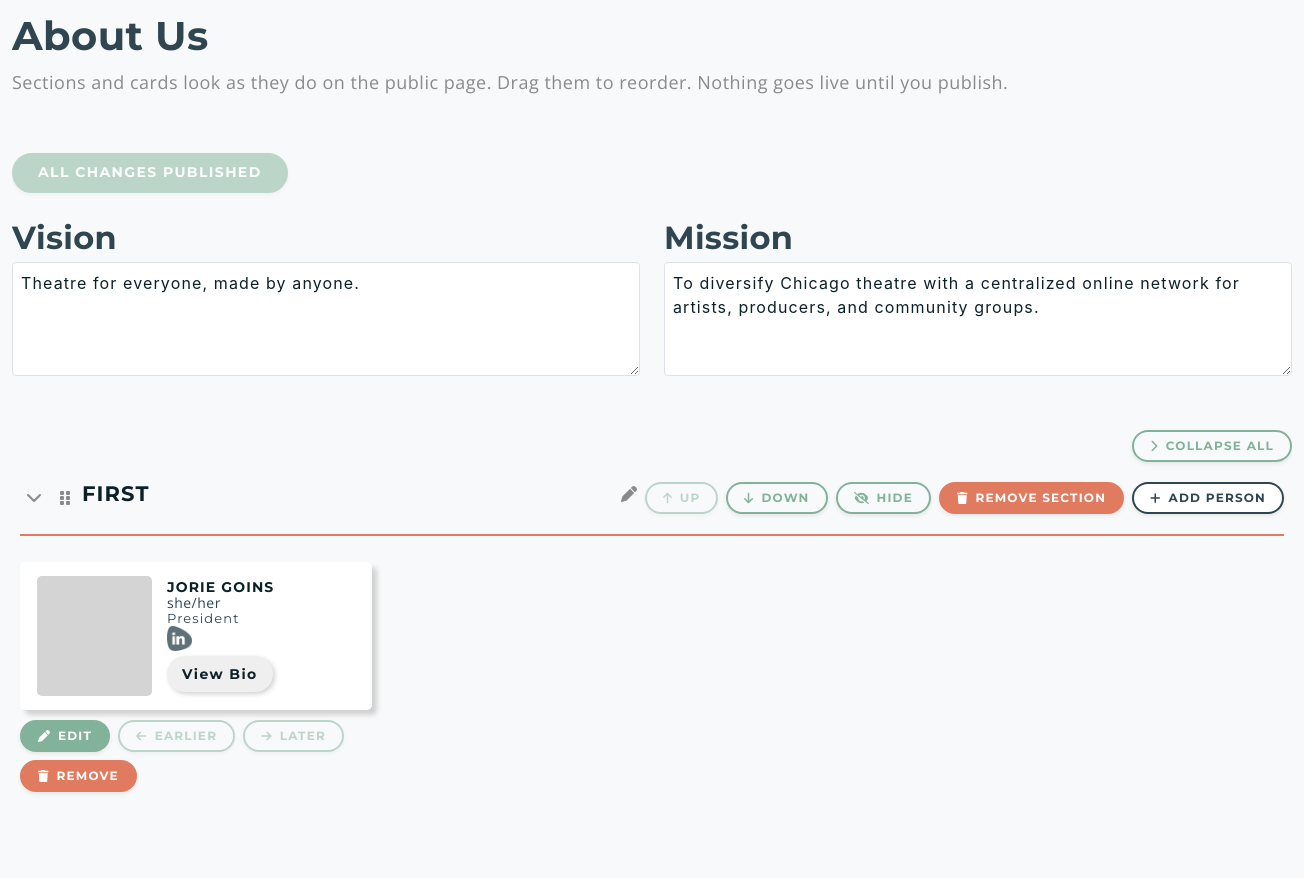
Test: AboutUsManagement › collapses sections so they are easier to reorder
The width and height of the screenshot is (1304, 878).
Expected: the heading "Jorie Goins" is shown, x1=167 y1=578 x2=274 y2=596
Click the button "Collapse all" at [1212, 446], box x1=1132 y1=430 x2=1292 y2=462
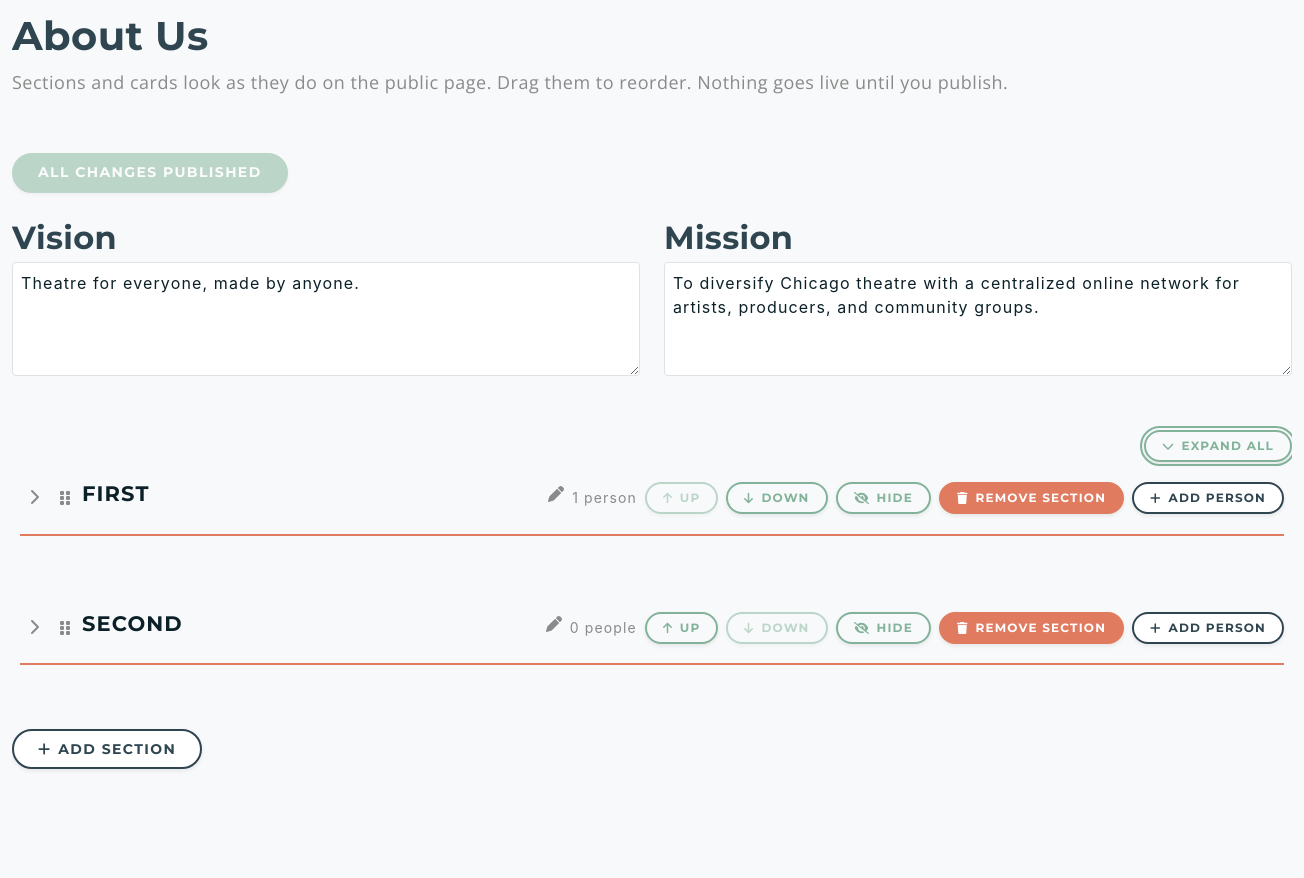
Result: the heading "Jorie Goins" is gone
Result: the text "1 person" is shown at x1=572 y1=488 x2=637 y2=508
Click the button named "Expand FIRST" at [34, 498], box x1=20 y1=486 x2=48 y2=510
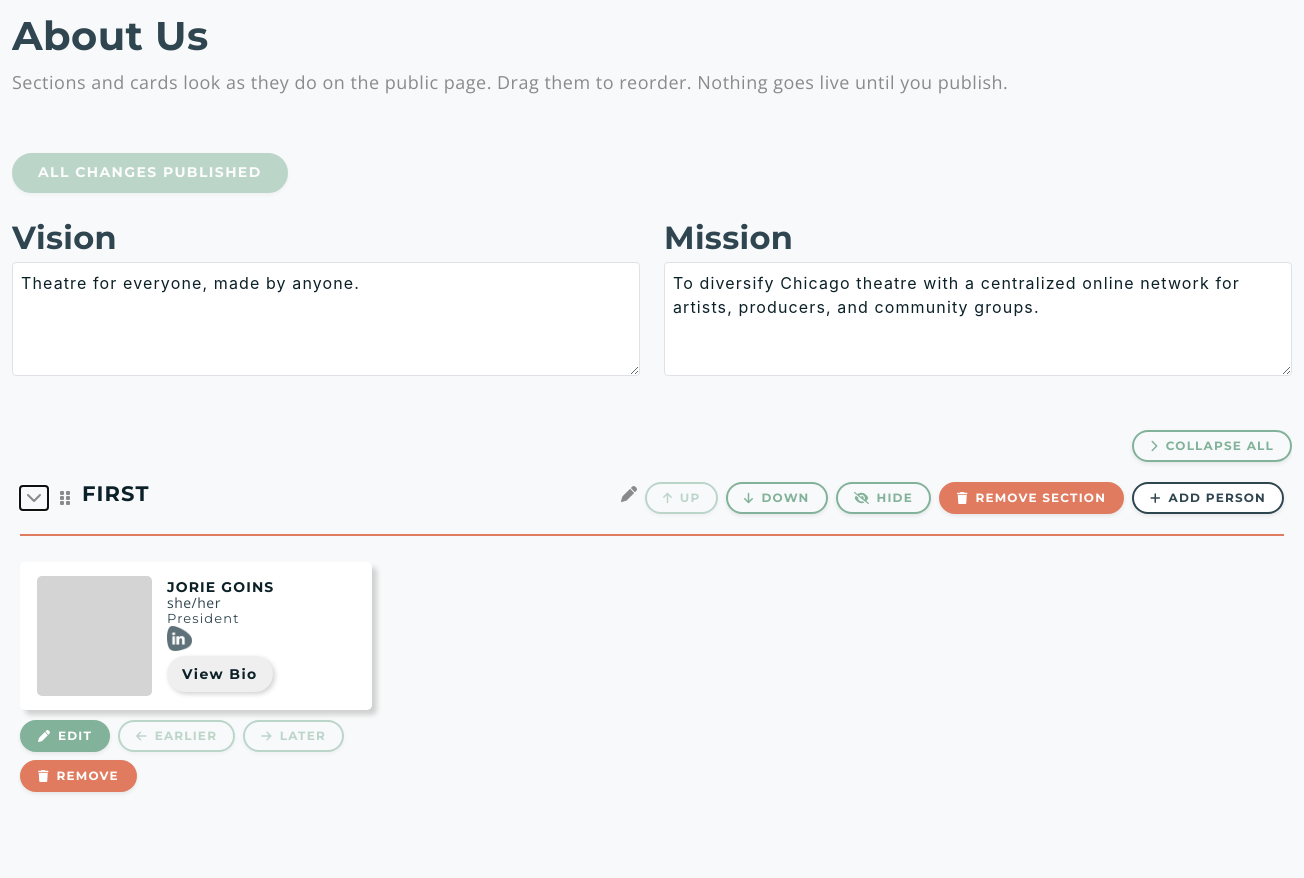
Expected: the button "All changes published" is disabled, x1=12 y1=153 x2=288 y2=193
Result: the heading "Jorie Goins" is shown at x1=167 y1=578 x2=274 y2=596
Result: the button "Collapse all" is shown at x1=1132 y1=430 x2=1292 y2=462
